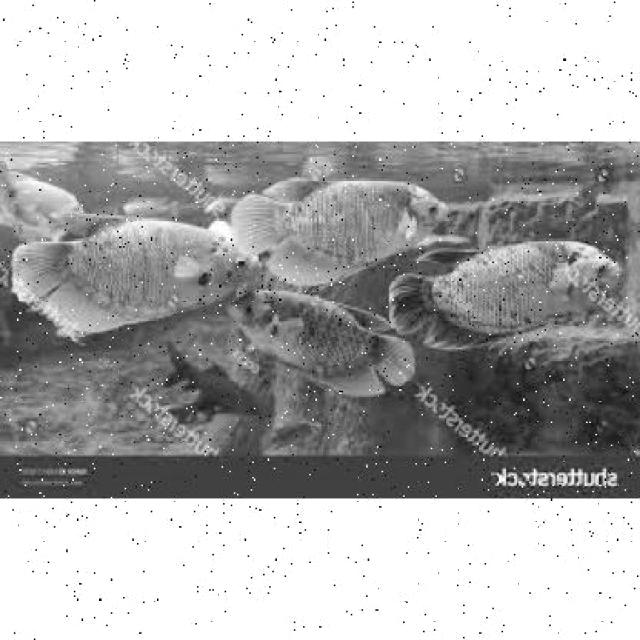gurame: (407, 234, 621, 344), (17, 212, 251, 308), (248, 172, 450, 280), (228, 288, 412, 386)
